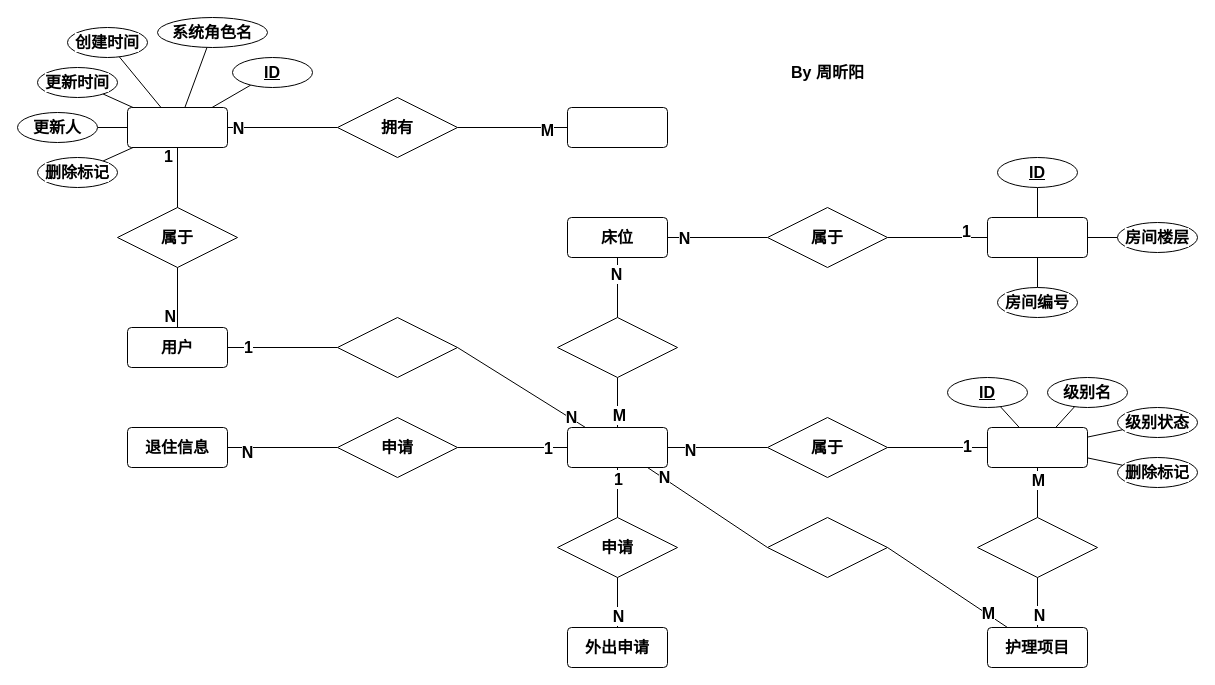
This 1215x685 diagram has some shape labels left out. The shapes that lost their labels are listed below. From the top down, each one's centre as x and y in pixels, then its label:
(x=177, y=127): 角色
(x=617, y=127): 菜单
(x=1037, y=237): 房间
(x=397, y=347): 关注
(x=617, y=347): 安排
(x=617, y=447): 客户
(x=1037, y=447): 护理级别
(x=827, y=547): 护理
(x=1037, y=547): 配置
